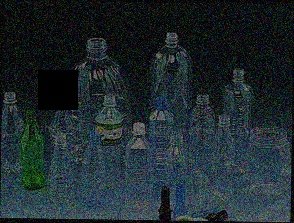bottle: (14, 107, 48, 198), (77, 130, 112, 211), (126, 116, 150, 212), (212, 112, 235, 205)
